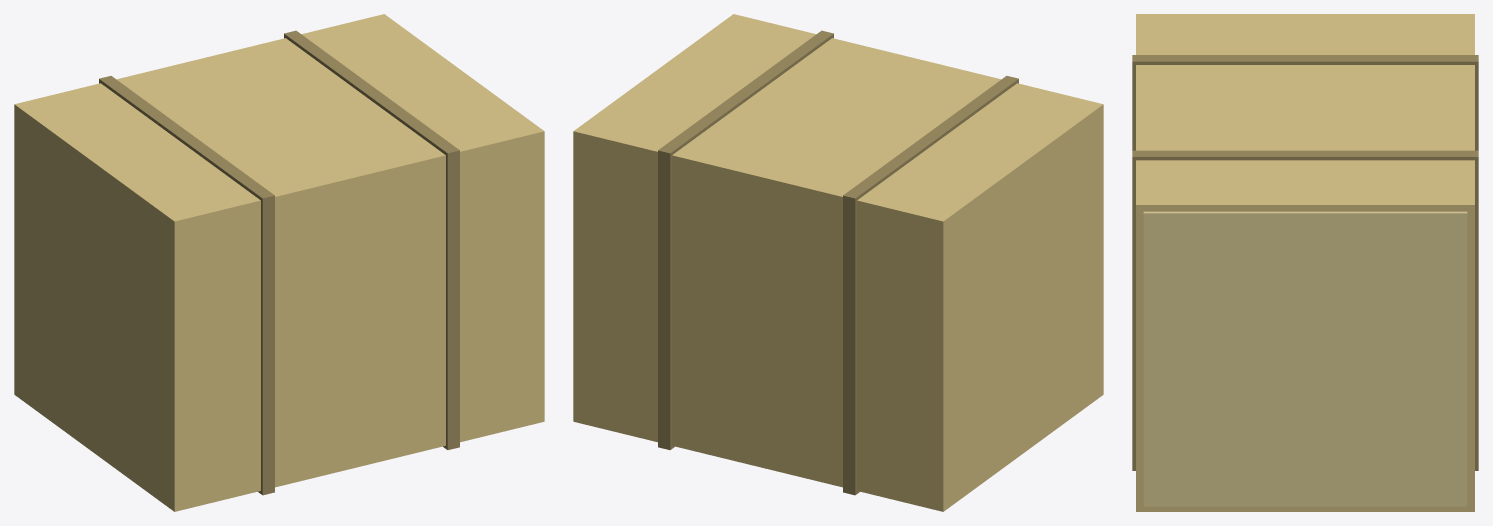
Rendered from hay_bale.glb.
The picture shows the model from 3 angles, left to right: view 1: azimuth 30°, elevation 25°; view 2: azimuth 150°, elevation 25°; view 3: azimuth 270°, elevation 25°; orthographic projection. The views are drawn at different scales.
Visible parts, largest first — view 1: Hay_Body, Hay_Strap_-0.3, Hay_Strap_+0.3; view 2: Hay_Body, Hay_Strap_-0.3, Hay_Strap_+0.3; view 3: Hay_Top, Hay_Body, Hay_Strap_+0.3, Hay_Strap_-0.3.
Part boxes in pixels (x1,y1,x2,y2): Hay_Body: (14,14,544,511); Hay_Strap_-0.3: (99,76,274,495); Hay_Strap_+0.3: (284,30,459,449); Hay_Body: (573,14,1103,511); Hay_Strap_-0.3: (843,76,1018,495); Hay_Strap_+0.3: (658,30,833,449); Hay_Top: (1143,211,1467,506); Hay_Body: (1136,14,1474,511); Hay_Strap_+0.3: (1132,150,1478,470); Hay_Strap_-0.3: (1132,55,1478,150).
Bounding box in the file's own units: 1.21 × 0.92 × 0.92.
